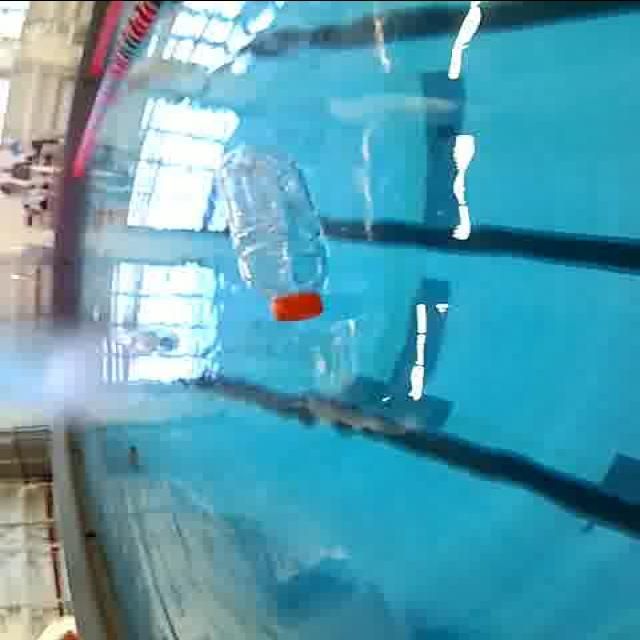Bottle: (208, 140, 340, 330)
